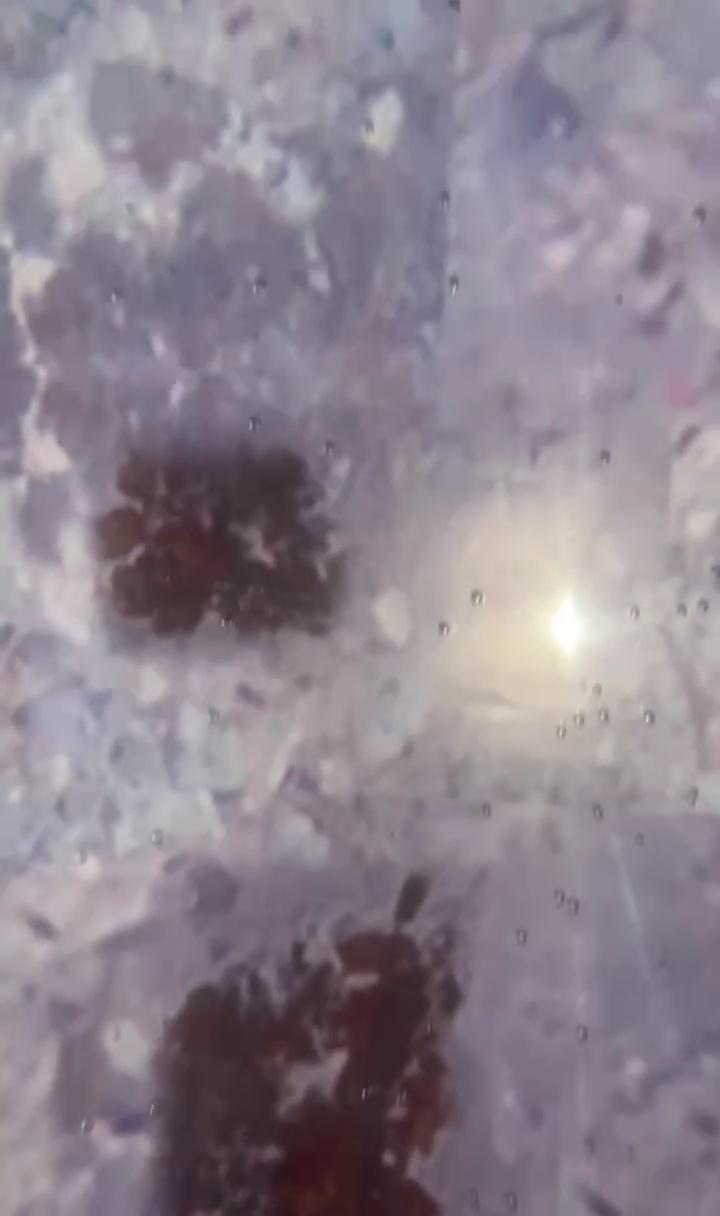Corrosion: (139, 869, 467, 1216), (88, 441, 348, 645)
